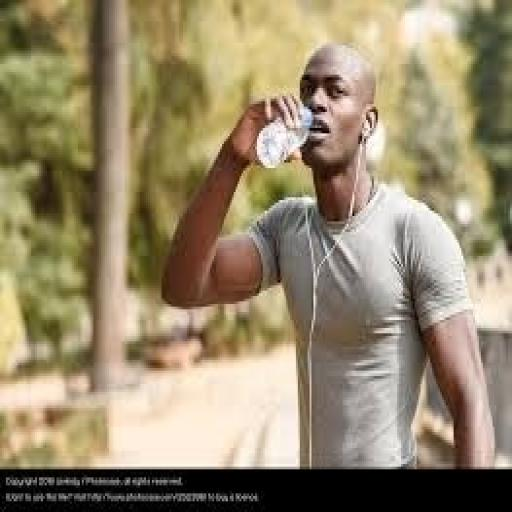drinking: (255, 104, 313, 168)
